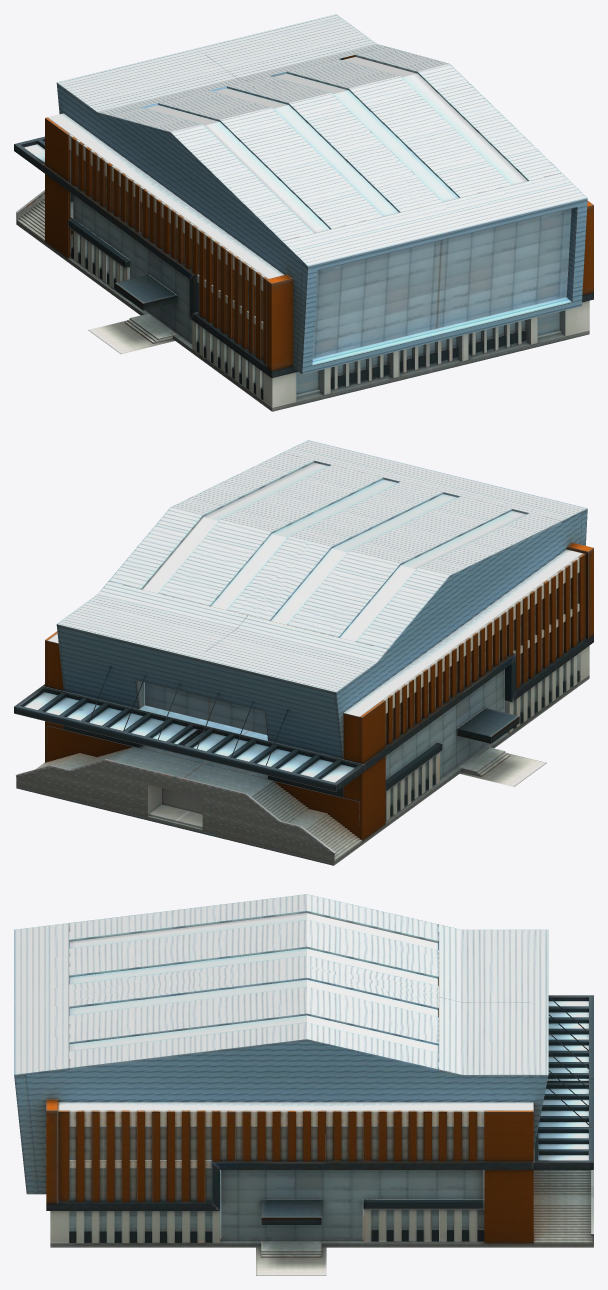
The model's file is diningTexture.glb.
3 views of the same model, one above another, from view 1: azimuth 30°, elevation 25°; view 2: azimuth 150°, elevation 25°; view 3: azimuth 270°, elevation 25° (orthographic). The views are drawn at different scales.
Parts seen in each view (by area): view 1: 食堂; view 2: 食堂; view 3: 食堂.
Part boxes in pixels (x1=…): 食堂: x1=14, y1=14, x2=593, y2=411; 食堂: x1=14, y1=440, x2=593, y2=865; 食堂: x1=14, y1=894, x2=593, y2=1275.
Bounding box in the file's own units: 52.02 × 21.75 × 57.6.
1 material, 1 textured.
